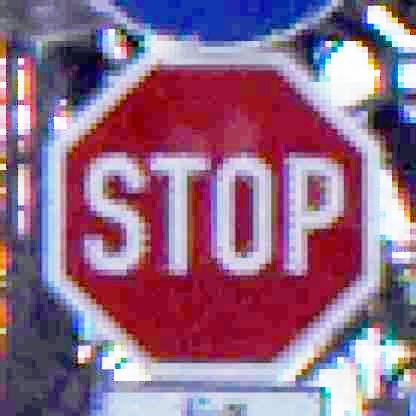Stop Sign: (40, 48, 388, 387)
